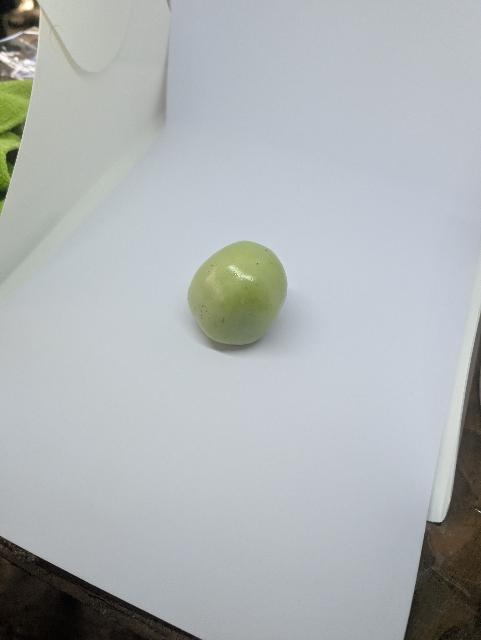green: (178, 235, 305, 372)
